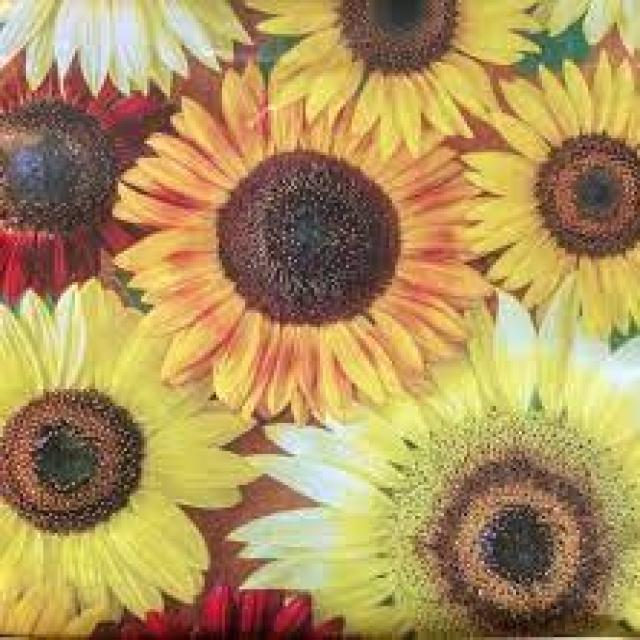sunflower: (110, 55, 506, 432), (227, 324, 640, 637), (0, 272, 269, 640), (2, 0, 267, 314), (458, 45, 640, 347), (233, 0, 543, 166), (0, 0, 259, 101), (519, 0, 640, 68)
